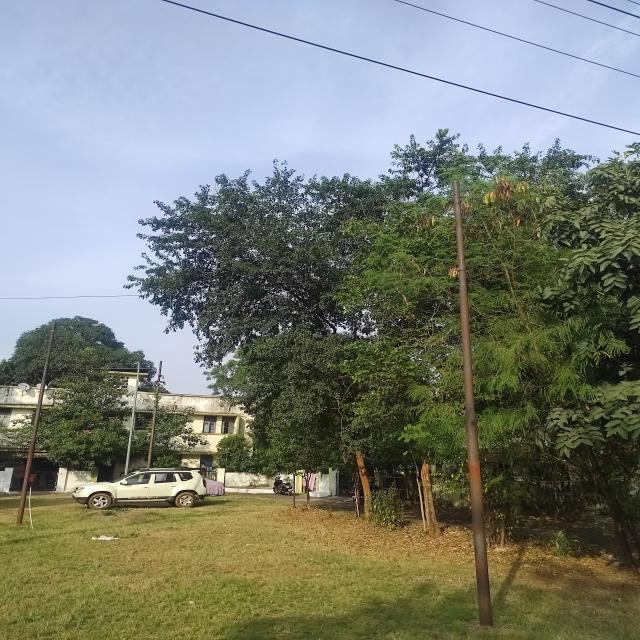Devakanchan tree: (137, 157, 393, 410)
